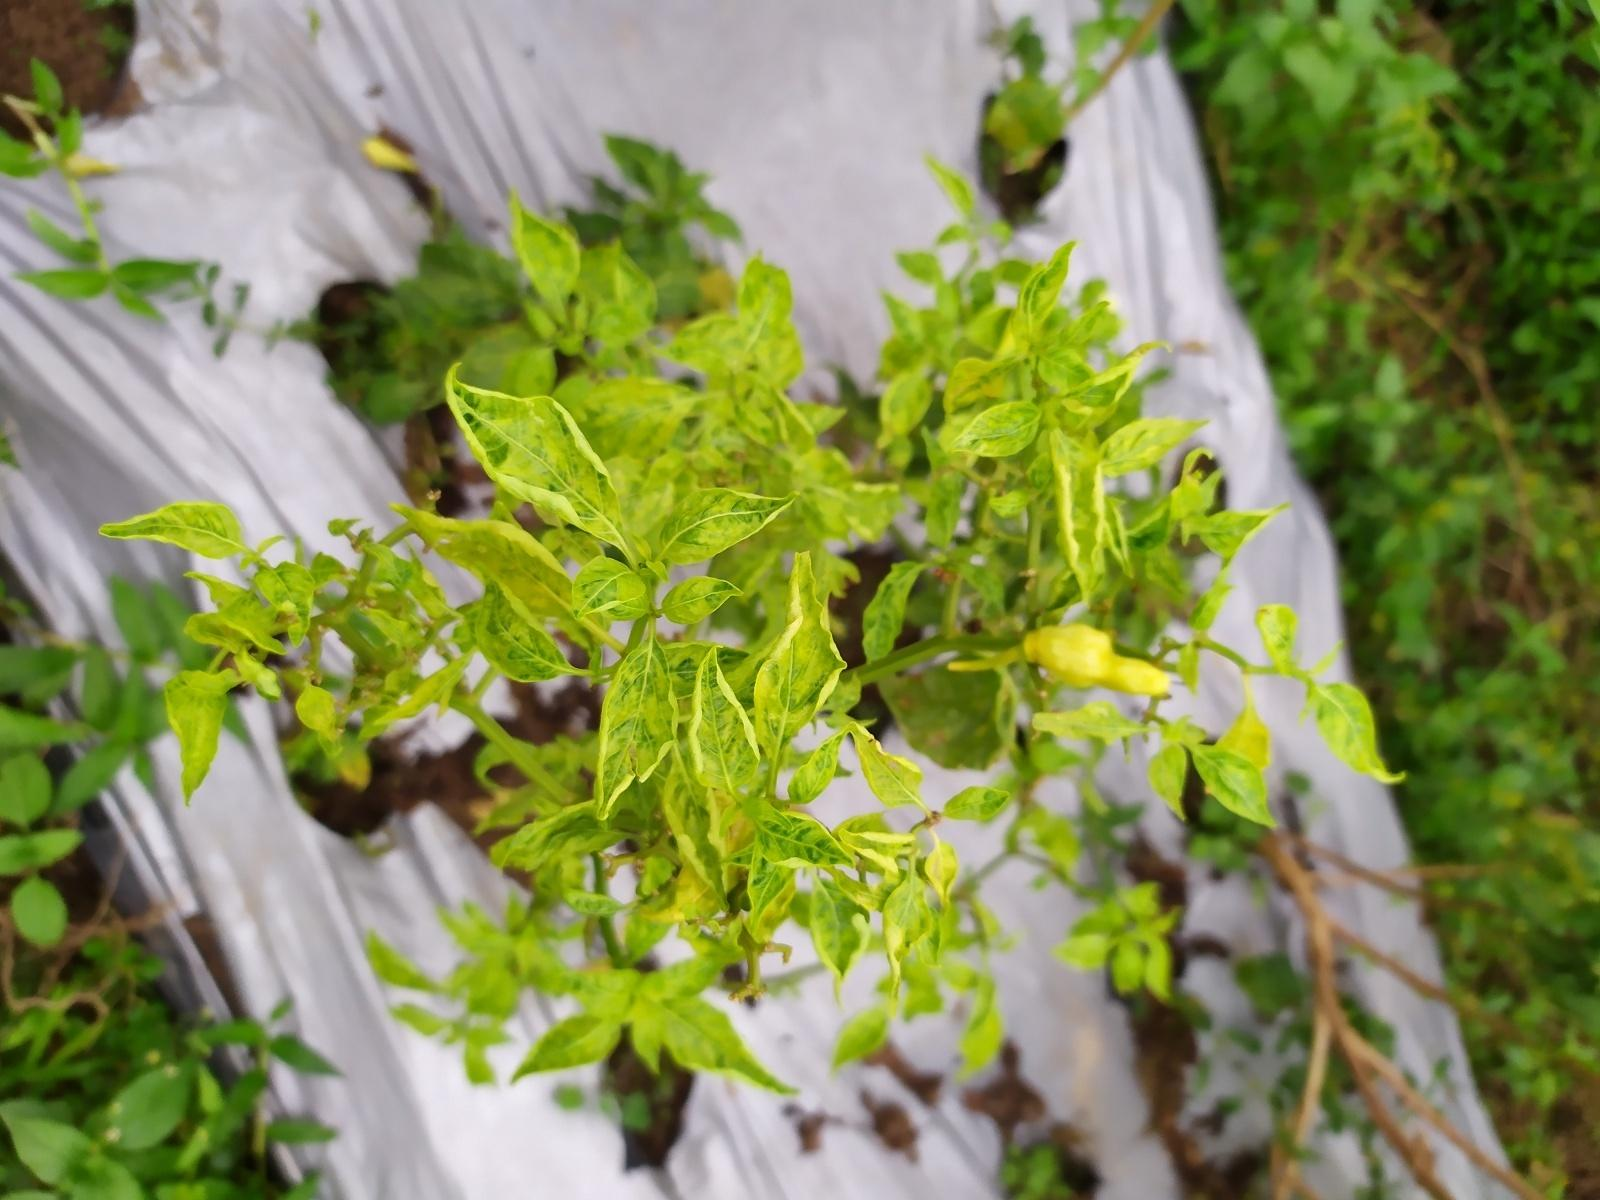cabai_normal: (1023, 623, 1169, 697)
